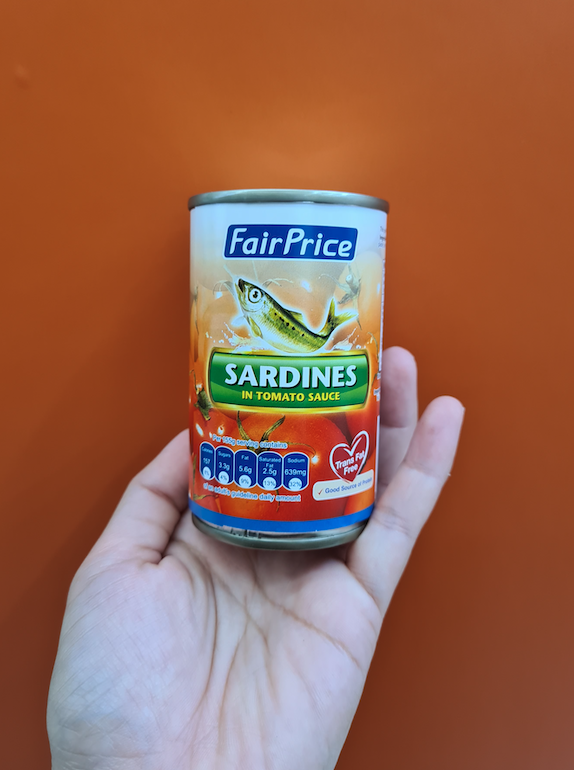Canned_Sardines_and_Mackerel: (192, 196, 378, 534)
